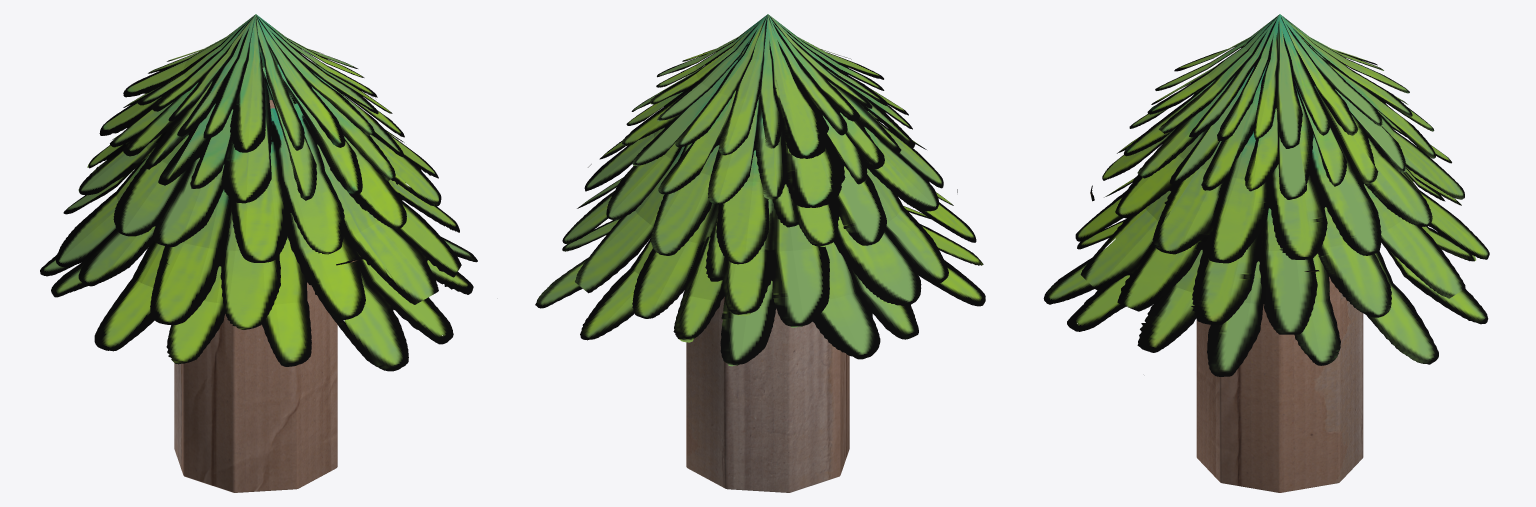
The model's file is FOREST_PILLAR_BIG.obj.
3 renders of one model, left to right at view 1: azimuth 30°, elevation 25°; view 2: azimuth 150°, elevation 25°; view 3: azimuth 270°, elevation 25°, orthographic.
Visible parts, largest first — view 1: FOREST_PILLAR_BIG.001; view 2: FOREST_PILLAR_BIG.001; view 3: FOREST_PILLAR_BIG.001.
Boxes of the visible parts, x1=… form: FOREST_PILLAR_BIG.001: x1=40, y1=14, x2=477, y2=492; FOREST_PILLAR_BIG.001: x1=535, y1=14, x2=985, y2=492; FOREST_PILLAR_BIG.001: x1=1043, y1=14, x2=1489, y2=492.
Bounding box in the file's own units: 4.04 × 4.1 × 4.04.
